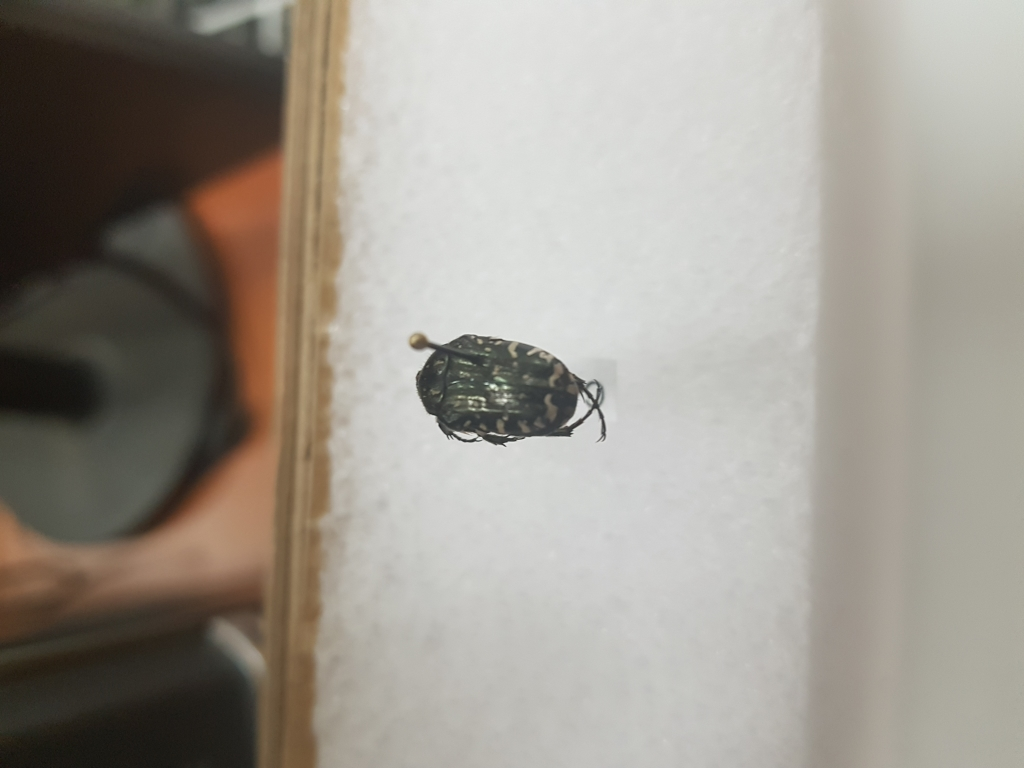Oxythyrea_funesta: (391, 323, 619, 453)
